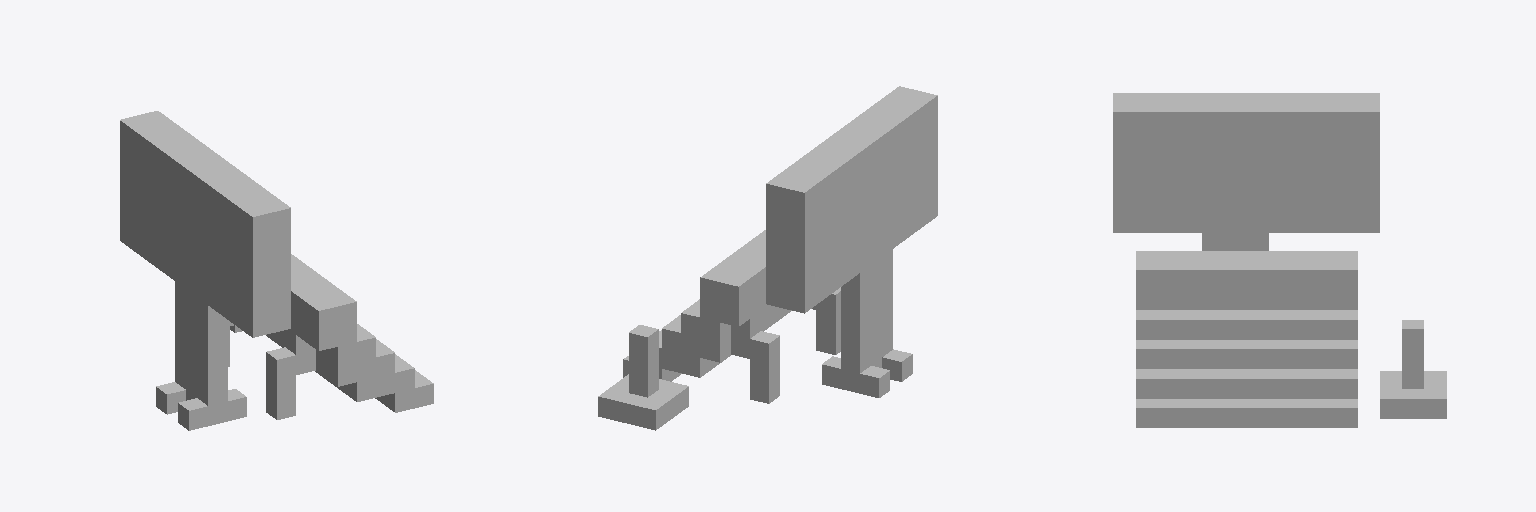
The model's file is Graphics tablet.obj.
3 views of the same model, side by side, from view 1: azimuth 30°, elevation 25°; view 2: azimuth 150°, elevation 25°; view 3: azimuth 270°, elevation 25° (orthographic).
Visible parts, largest first — view 1: object 1; view 2: object 1; view 3: object 1.
Boxes of the visible parts, x1=… form: object 1: x1=120, y1=111, x2=433, y2=430; object 1: x1=598, y1=86, x2=937, y2=430; object 1: x1=1113, y1=93, x2=1446, y2=427.
Size of the model in its own units: 1.1 by 1.2 by 1.5.